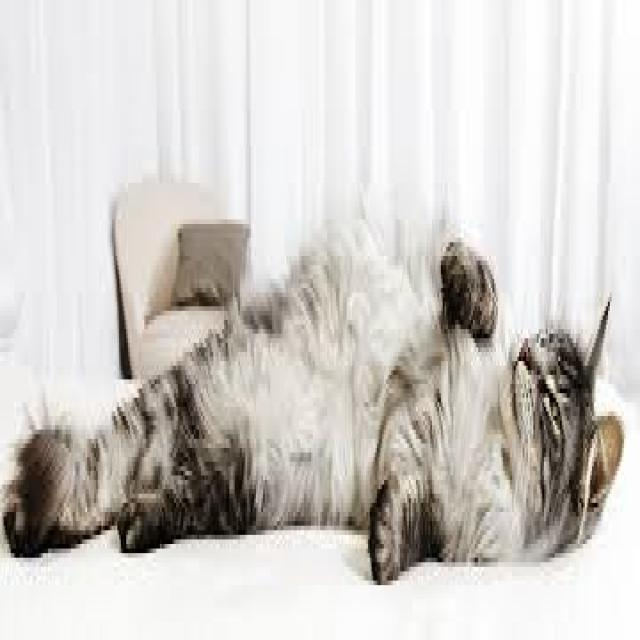Cat: (2, 182, 626, 603)
